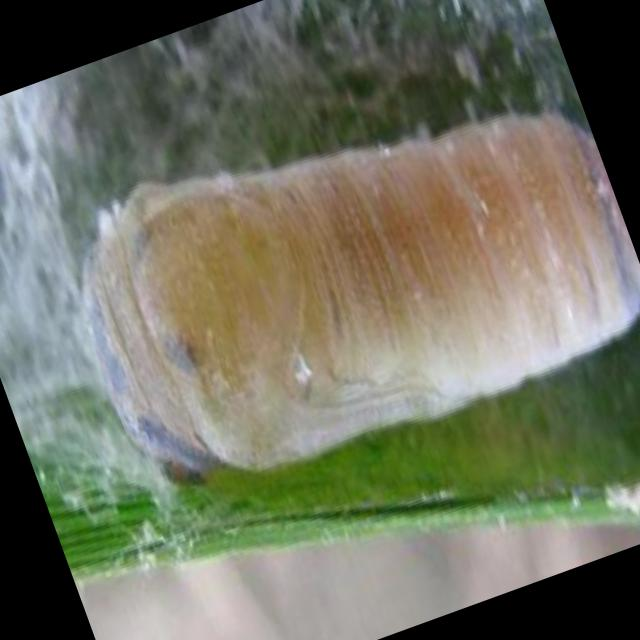leaf-folder: (22, 10, 640, 571)
